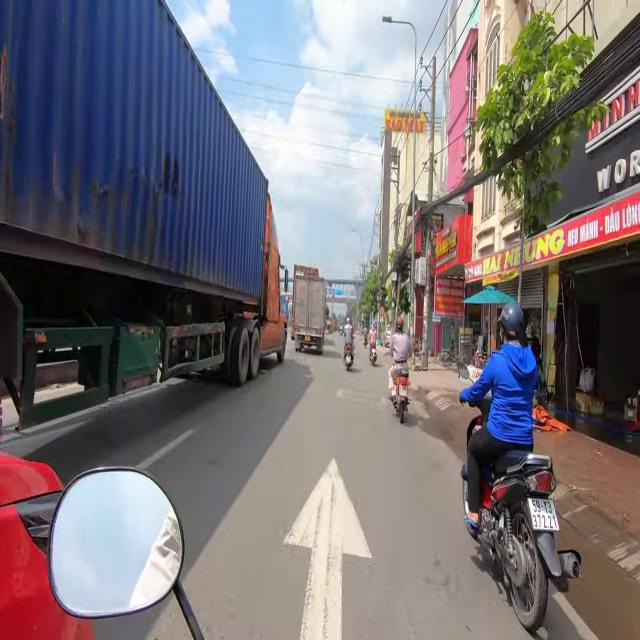bien_trang: (527, 498, 560, 534)
